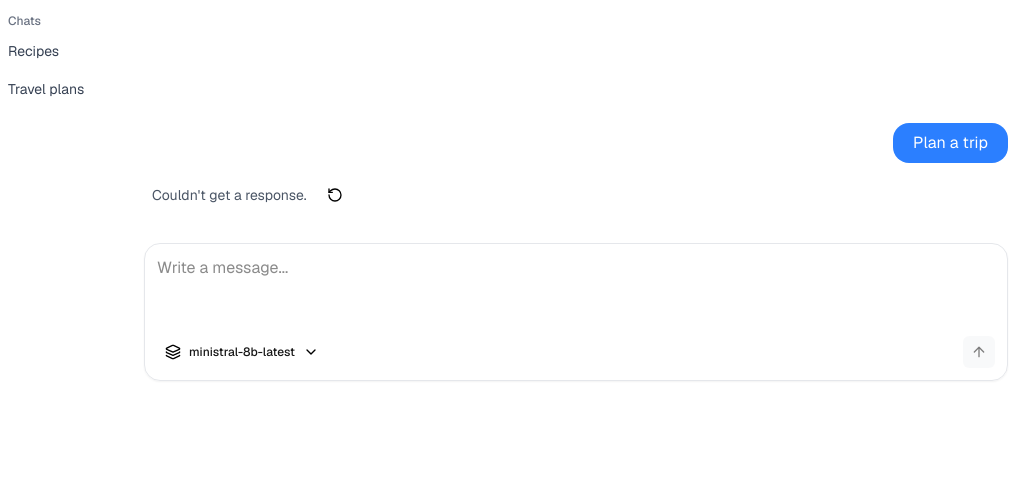
Test: Chat › moves a continued chat to the top of the history
Type "Rome" into the text box with placeholder "Write a message..." at (576, 296), box [157,256,995,336]
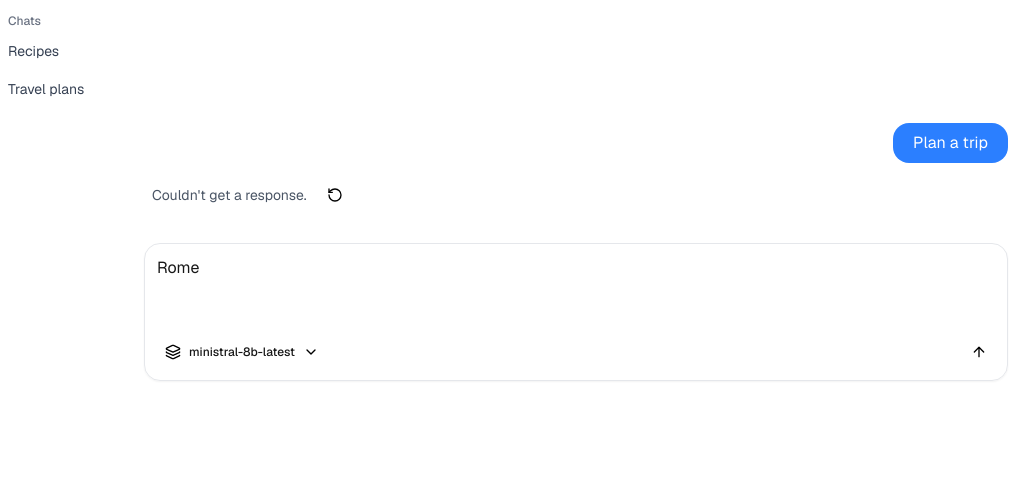
Press Enter in the text box with placeholder "Write a message...", box [157,256,995,336]
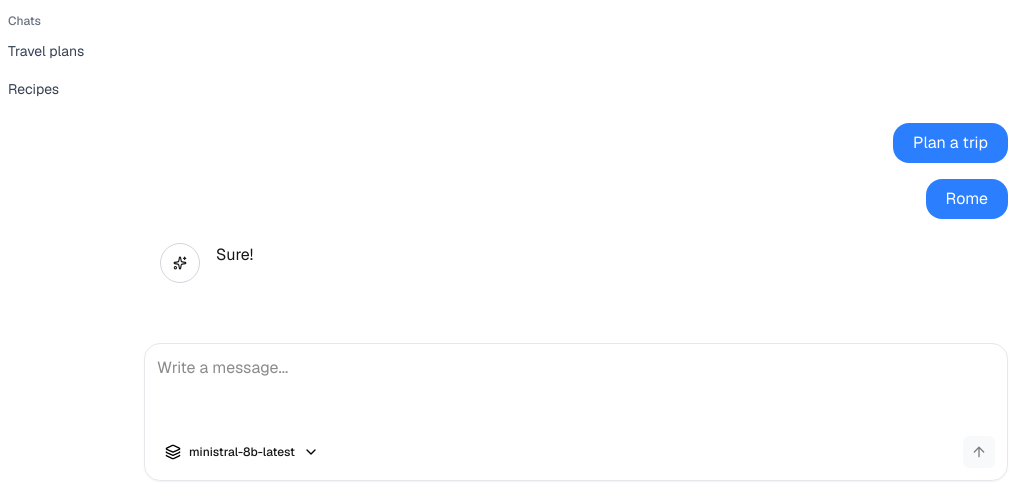
Check: the text "Sure!" is shown, box [216,243,253,267]
